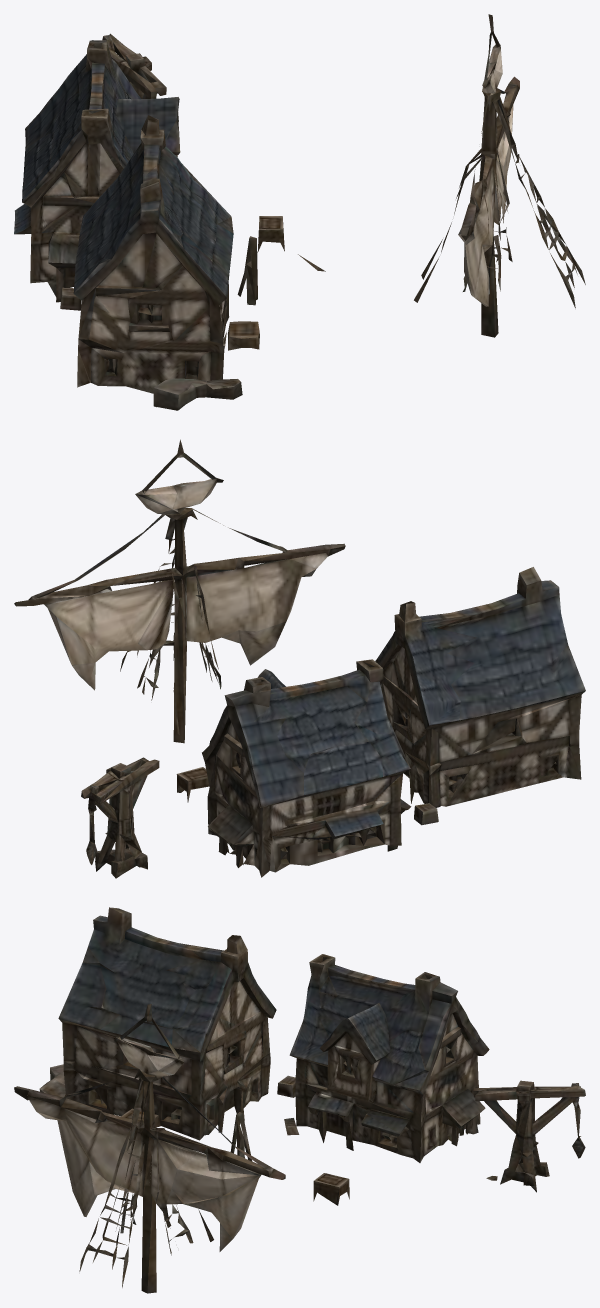
The model's file is port.glb.
3 views of the same model, one above another, from view 1: azimuth 30°, elevation 25°; view 2: azimuth 150°, elevation 25°; view 3: azimuth 270°, elevation 25° (orthographic). The views are drawn at different scales.
Size of the model in its own units: 1.68 by 0.9723 by 1.76.
1 material, 1 textured.
